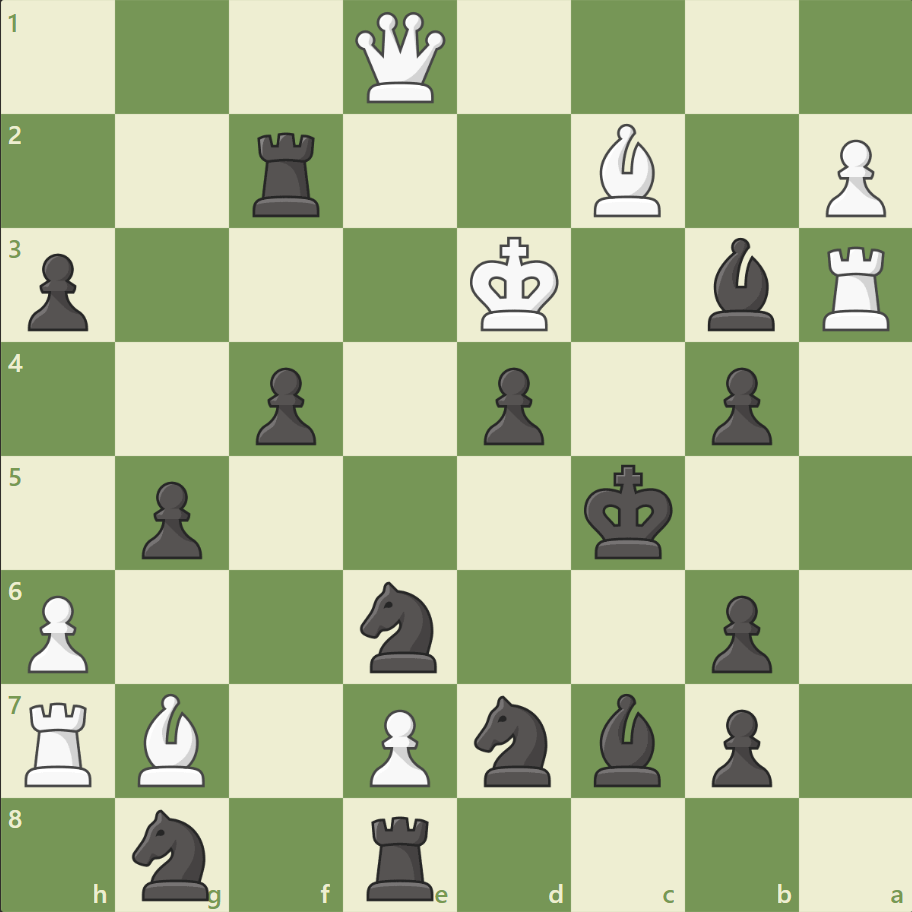B: (131, 687, 215, 790), (585, 120, 669, 222)
K: (465, 231, 565, 339)
P: (20, 586, 95, 677), (361, 700, 435, 791), (815, 132, 889, 223)
Q: (351, 9, 450, 108)
R: (19, 693, 102, 790), (814, 239, 897, 336)
b: (585, 687, 669, 790), (698, 233, 782, 336)
k: (579, 458, 679, 566)
n: (124, 802, 222, 904), (351, 575, 449, 677), (465, 688, 562, 791)
p: (701, 700, 776, 791), (701, 586, 776, 677), (133, 473, 208, 564), (701, 359, 776, 450), (474, 359, 549, 450), (247, 359, 322, 450), (20, 246, 95, 337)
r: (246, 125, 329, 222), (360, 806, 442, 904)
